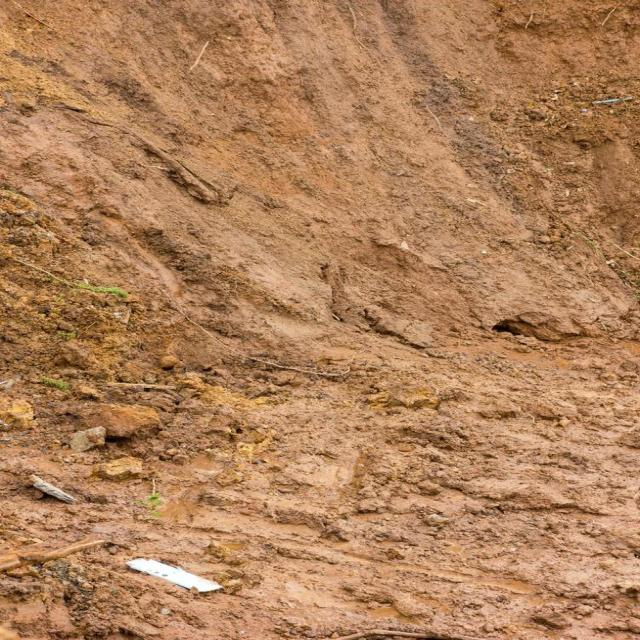suelo_seco: (270, 43, 630, 578)
